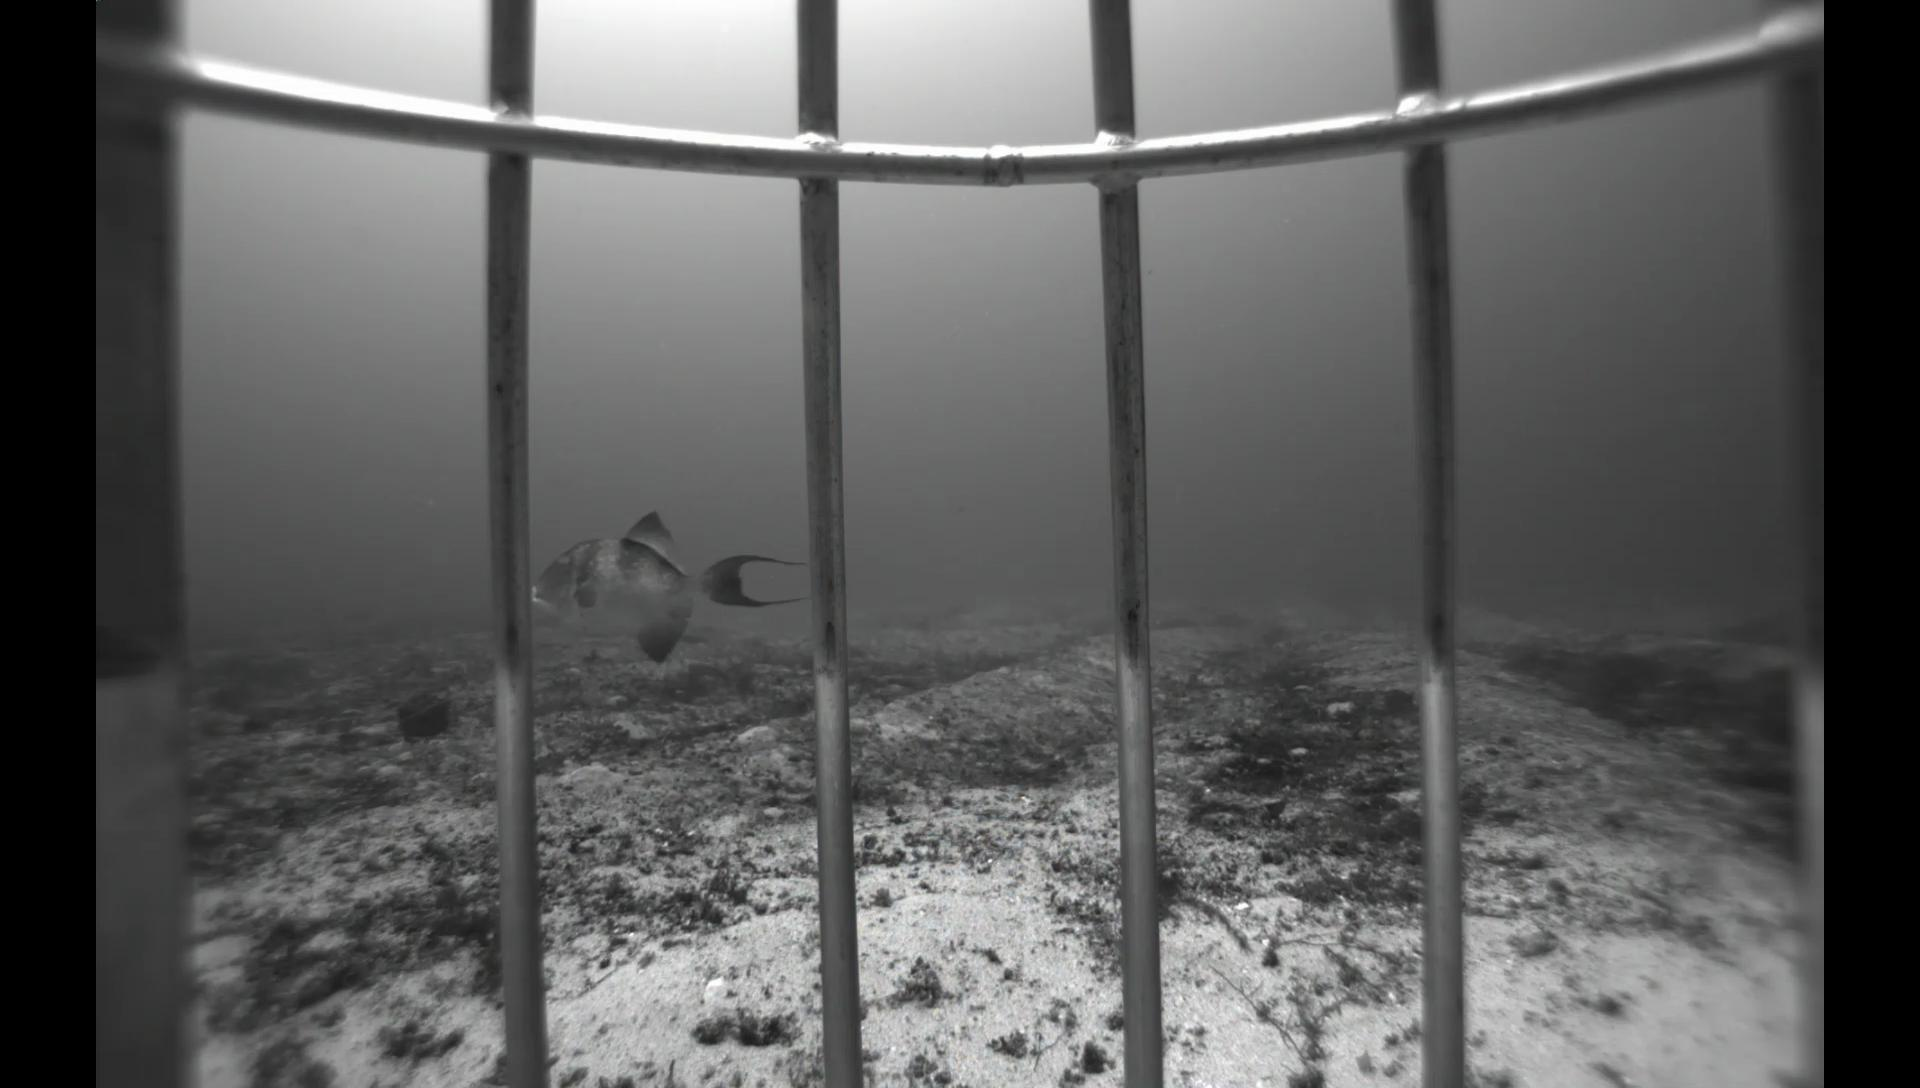BALISTESCAPRISCUS-189030502: (527, 501, 812, 677)
